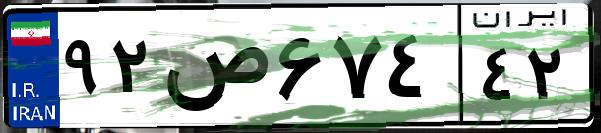2: (525, 38, 570, 115), (110, 28, 158, 98)
4: (385, 28, 445, 110), (475, 38, 525, 113)
6: (270, 28, 330, 110)
7: (330, 28, 385, 110)
9: (57, 26, 110, 100)
ص: (158, 20, 270, 120)
